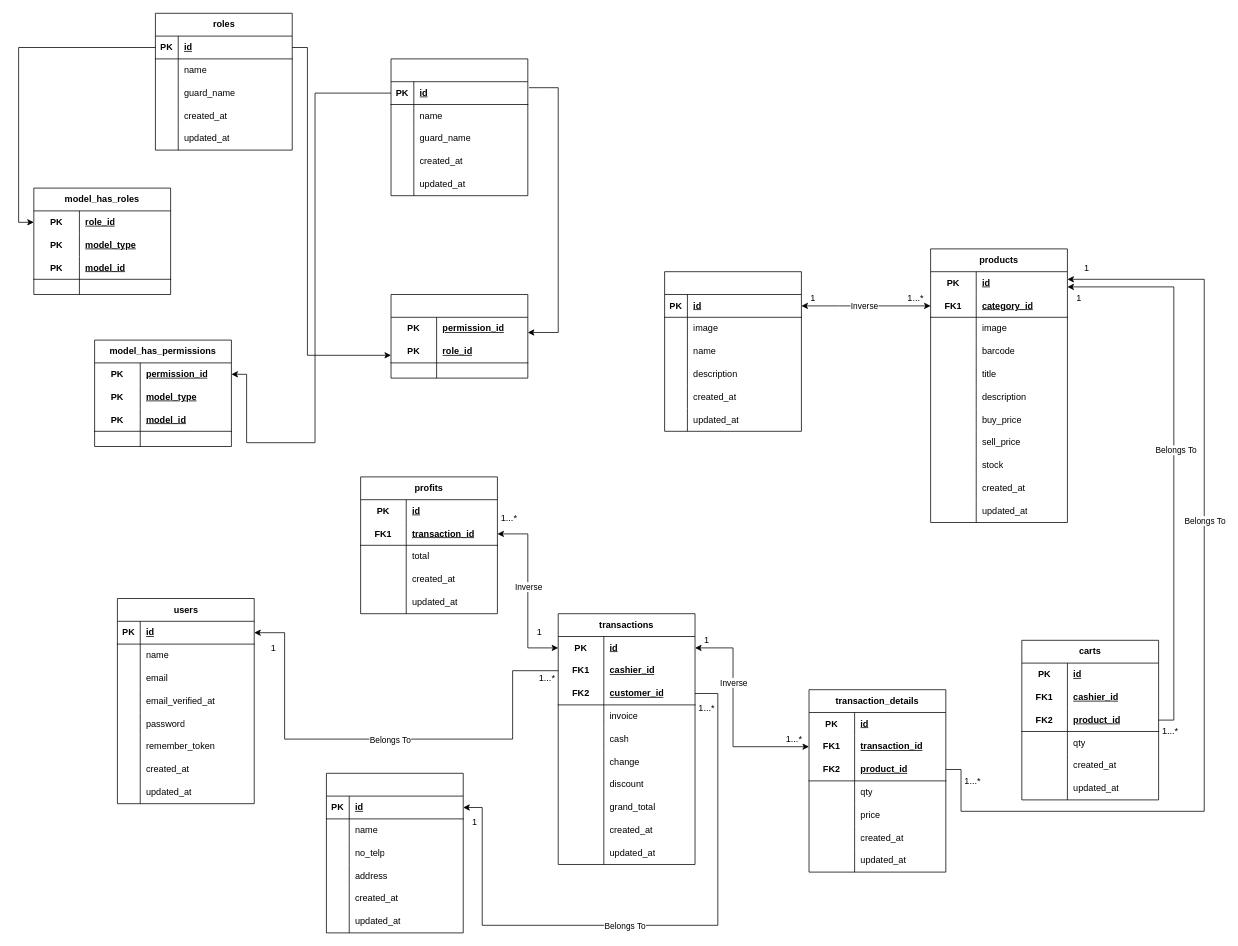
This 1238x946 diagram has some shape labels left out. Each missing label, with the box of its shape:
categories: (664, 271, 801, 431)
costumers: (326, 773, 463, 933)
permissions: (390, 58, 528, 196)
role_has_permissions: (390, 294, 528, 378)
